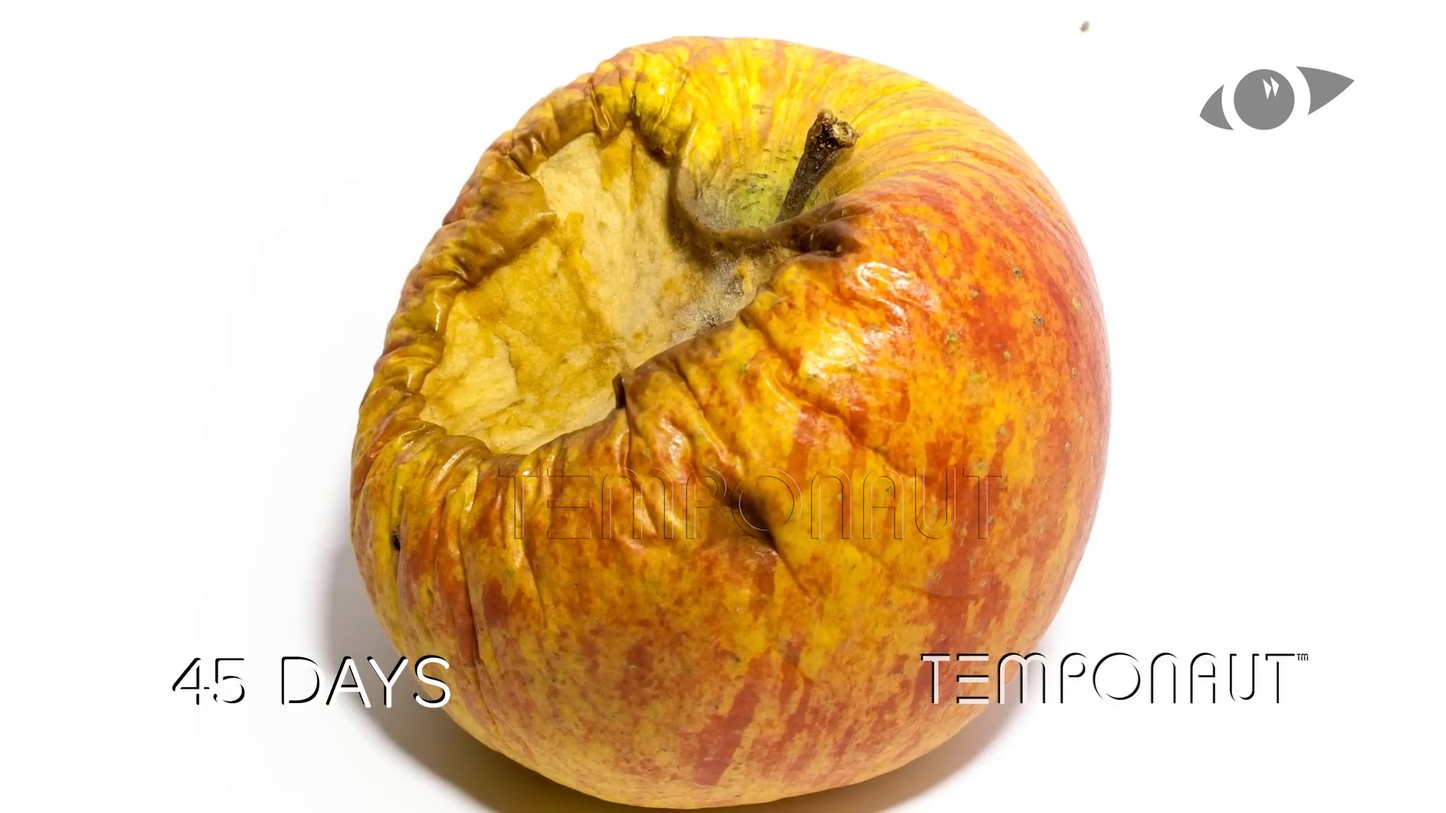apple_rotten: (349, 38, 1111, 802)
